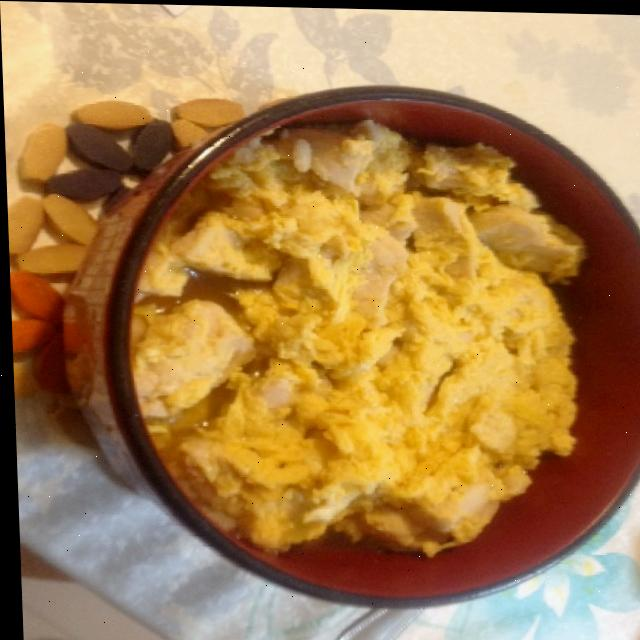米饭主食: (44, 71, 640, 617)
